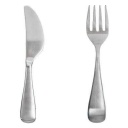Fork: (78, 1, 111, 124)
